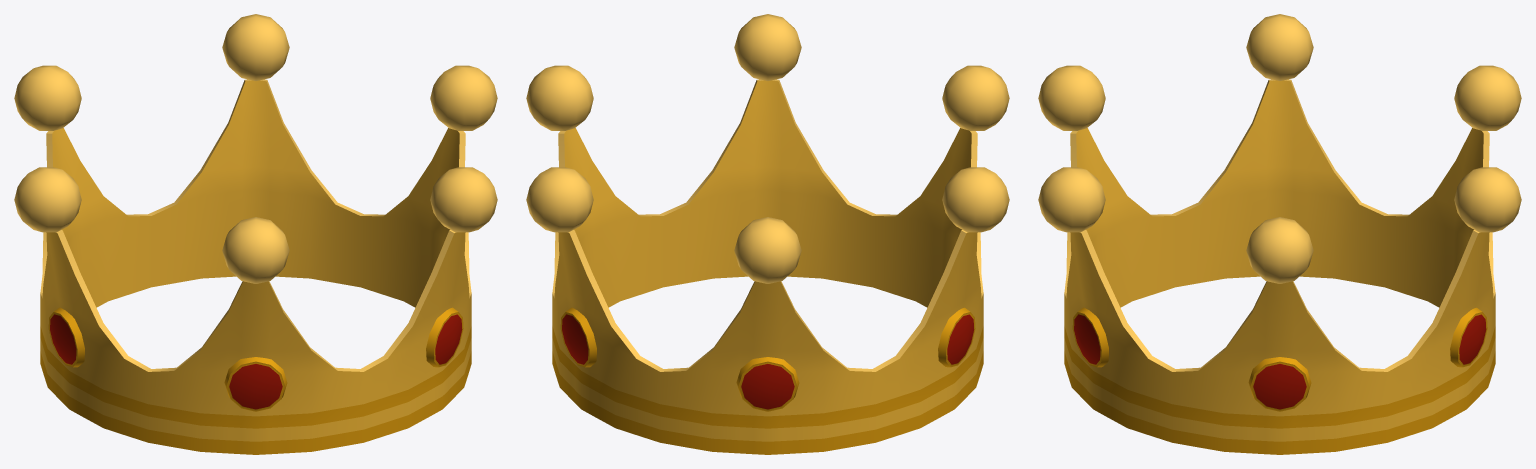
The model's file is crown.fbx.
3 views of the same model, side by side, from view 1: azimuth 30°, elevation 25°; view 2: azimuth 150°, elevation 25°; view 3: azimuth 270°, elevation 25° (orthographic).
Visible parts, largest first — view 1: persp16; view 2: persp16; view 3: persp16.
Boxes of the visible parts, left/top/right/bottom form: persp16: left=14, top=14, right=497, bottom=454; persp16: left=526, top=14, right=1009, bottom=454; persp16: left=1038, top=14, right=1521, bottom=454.
Bounding box in the file's own units: 405 × 200 × 358.
